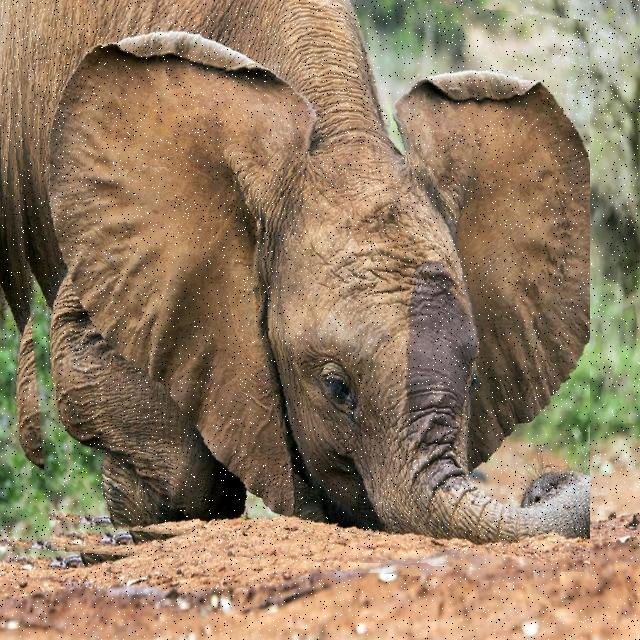elephant: (0, 0, 590, 575)
